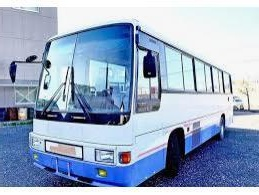bus: (31, 19, 235, 187)
